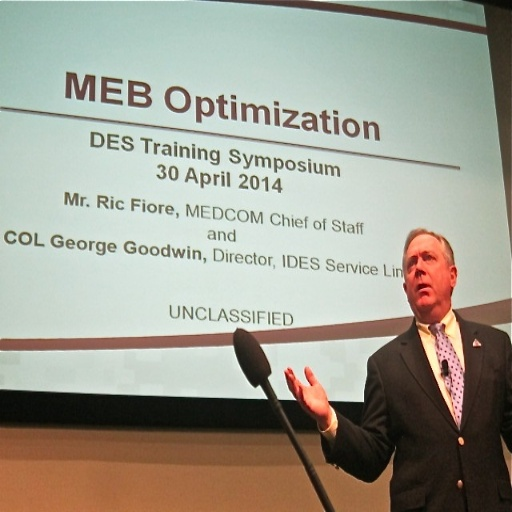hand: (293, 371, 333, 438)
